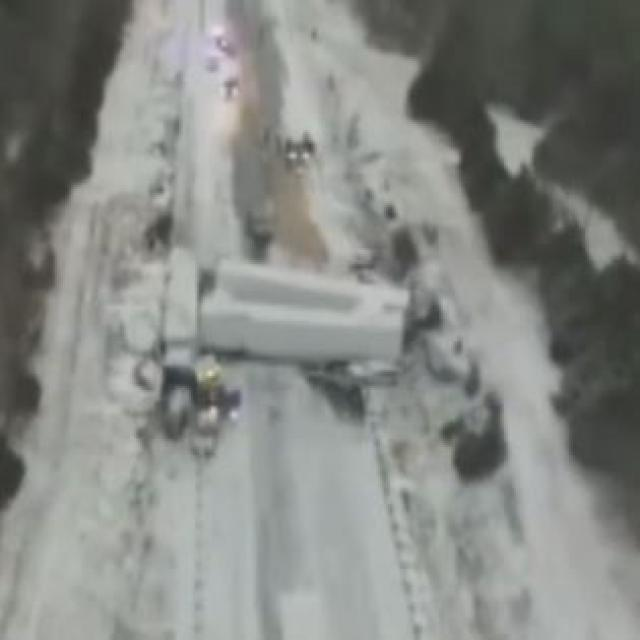traffic_incident: (136, 242, 425, 366)
